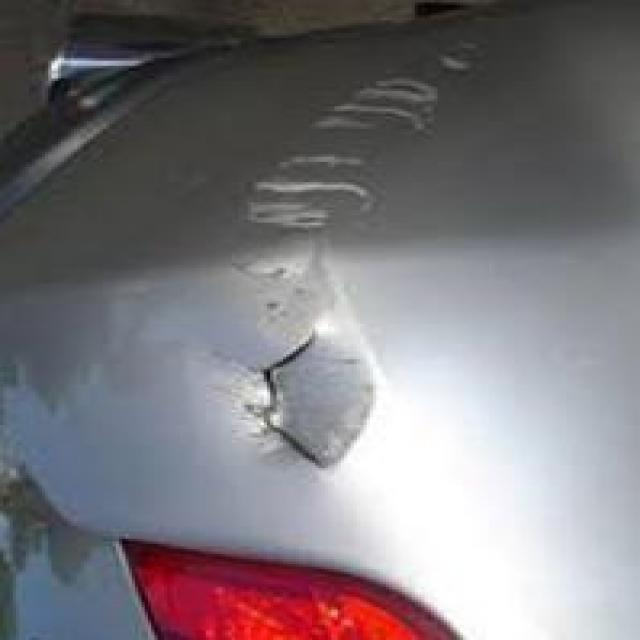scratch: (197, 33, 482, 276)
